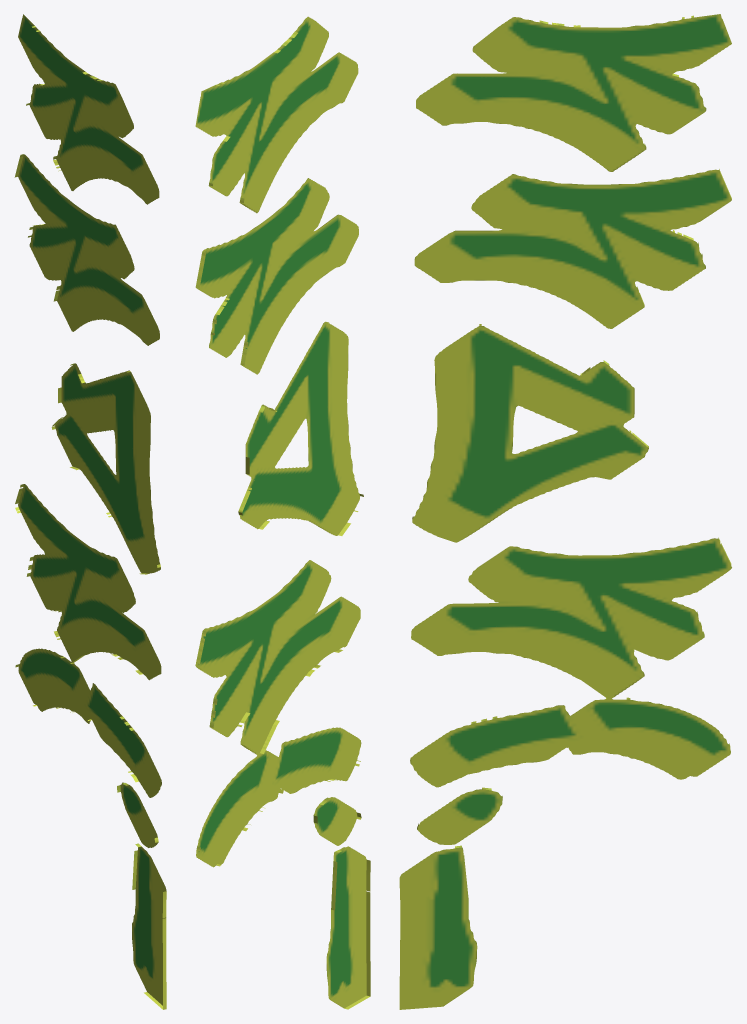
File: KKUKI EASTER EGG v2fbx.fbx
The picture shows the model from 3 angles, left to right: view 1: azimuth 30°, elevation 25°; view 2: azimuth 150°, elevation 25°; view 3: azimuth 270°, elevation 25°; orthographic projection. The views are drawn at different scales.
Visible parts, largest first — view 1: Cube; view 2: Cube; view 3: Cube.
Part boxes in pixels (x1,y1,x2,y2): Cube: (14,14,166,1009); Cube: (195,16,370,1009); Cube: (399,14,731,1009).
Bounding box in the file's own units: 4.43 × 1082 × 328.
1 material, 1 textured.
